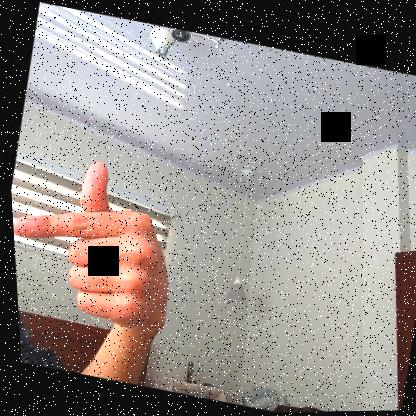T: (7, 143, 195, 347)
